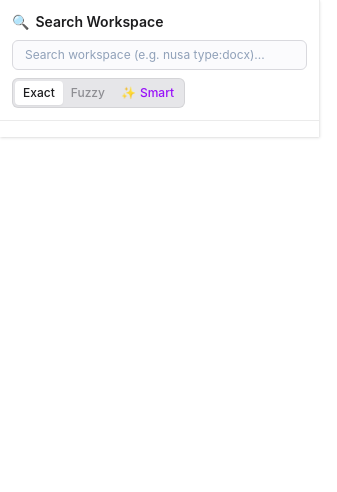
Test: SearchPanel & Realtime Search UI › Search UI updates without page navigation
Note: Type into query input without page reload/navigation
Type "nusa dua" into the field with placeholder "Search workspace (e.g. nusa type:docx)..." at (160, 55), box [12, 40, 307, 70]
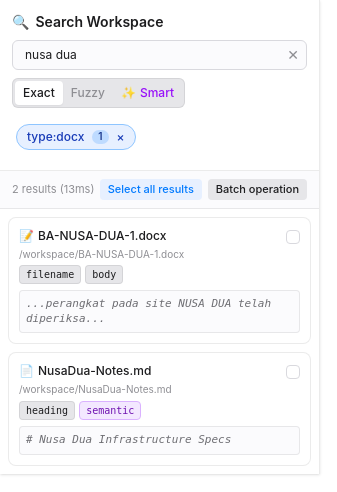
Check: the text "BA-NUSA-DUA-1.docx" is shown, box [38, 228, 166, 242]
Check: the text "NusaDua-Notes.md" is shown, box [38, 364, 151, 378]
Check: the text "...perangkat pada site NUSA DUA telah diperiksa..." is shown, box [26, 297, 293, 326]
